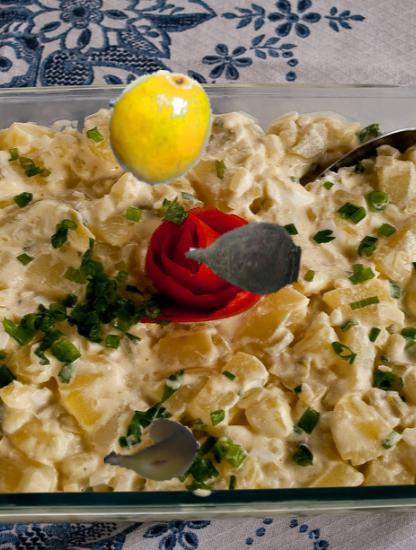Banana: (104, 402, 199, 497)
Beetroot: (183, 195, 304, 316)
Maracuja: (101, 70, 218, 187)
